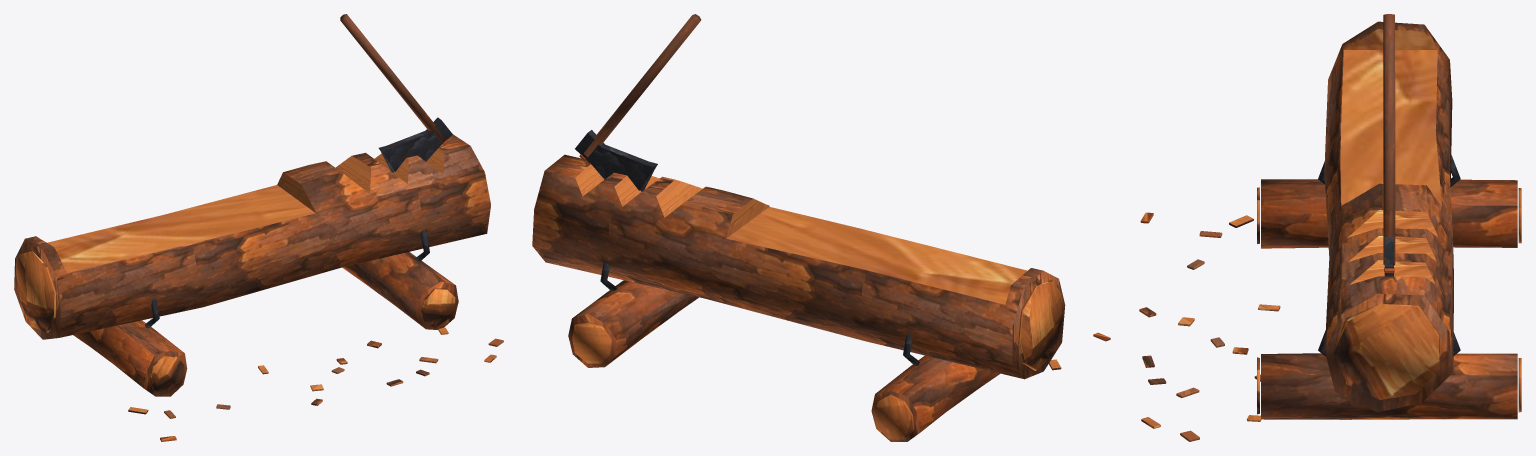
Rendered from mp_hewing_log.glb.
3 renders of one model, left to right at view 1: azimuth 30°, elevation 25°; view 2: azimuth 150°, elevation 25°; view 3: azimuth 270°, elevation 25°, orthographic. The views are drawn at different scales.
Parts seen in each view (by area): view 1: model; view 2: model; view 3: model.
Part boxes in pixels (<box>): model: <box>14,14,503,441</box>; model: <box>532,14,1110,441</box>; model: <box>1139,14,1521,441</box>.
Size of the model in its own units: 1.92 by 1.23 by 1.13.
14 materials, 14 textured.
